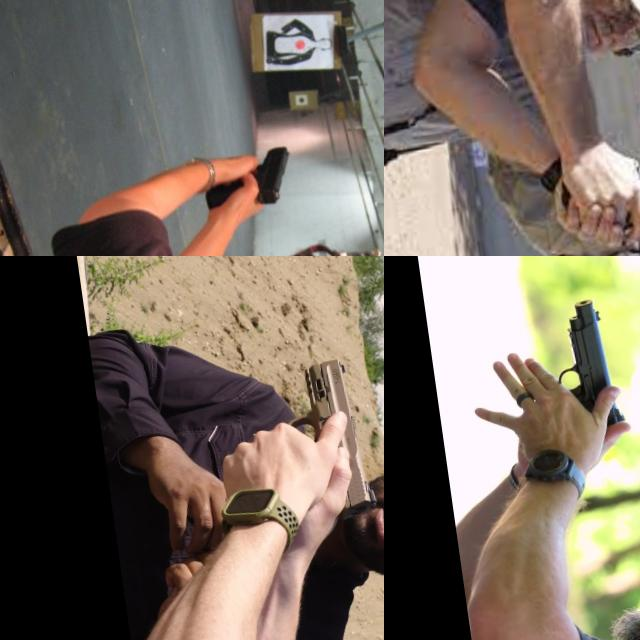handgun: (280, 353, 378, 530), (546, 291, 628, 434), (233, 142, 299, 212), (609, 160, 640, 256)
